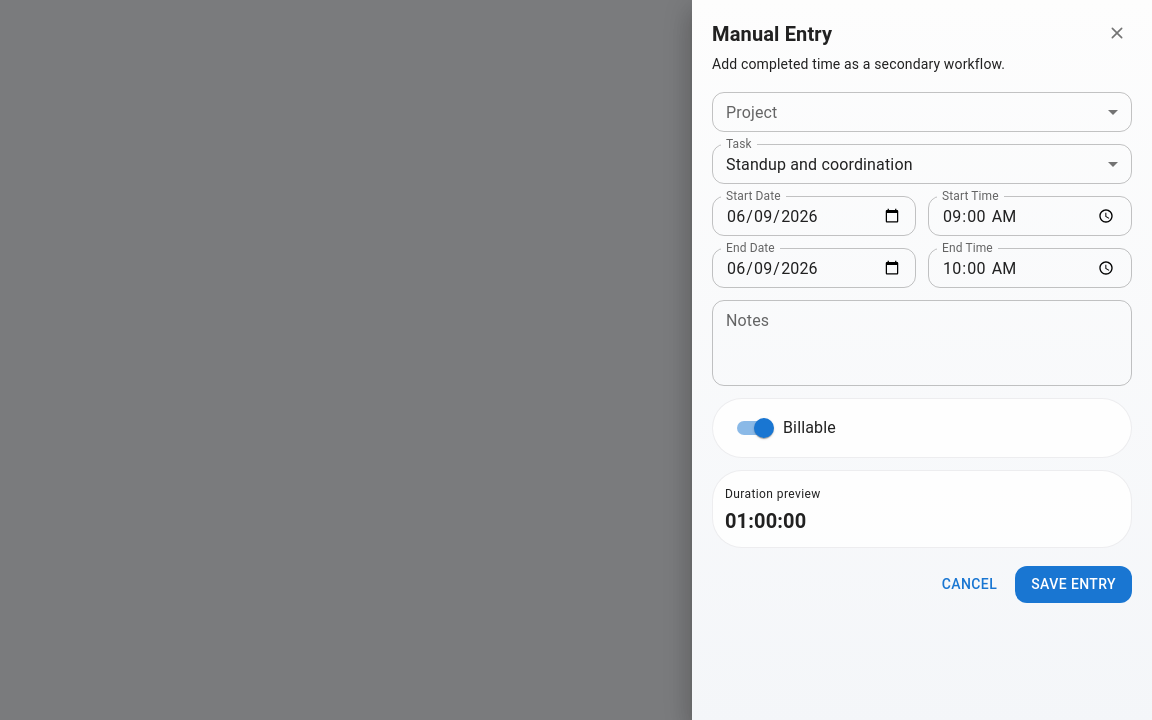
Test: TimerEntryDrawer › submit validation › blocks save and shows validation error when project is empty
What coordinates should you click on to do the following:
click the button "Save Entry"
I would click on:
 (1074, 584)
Its box is [1015,566,1132,602].
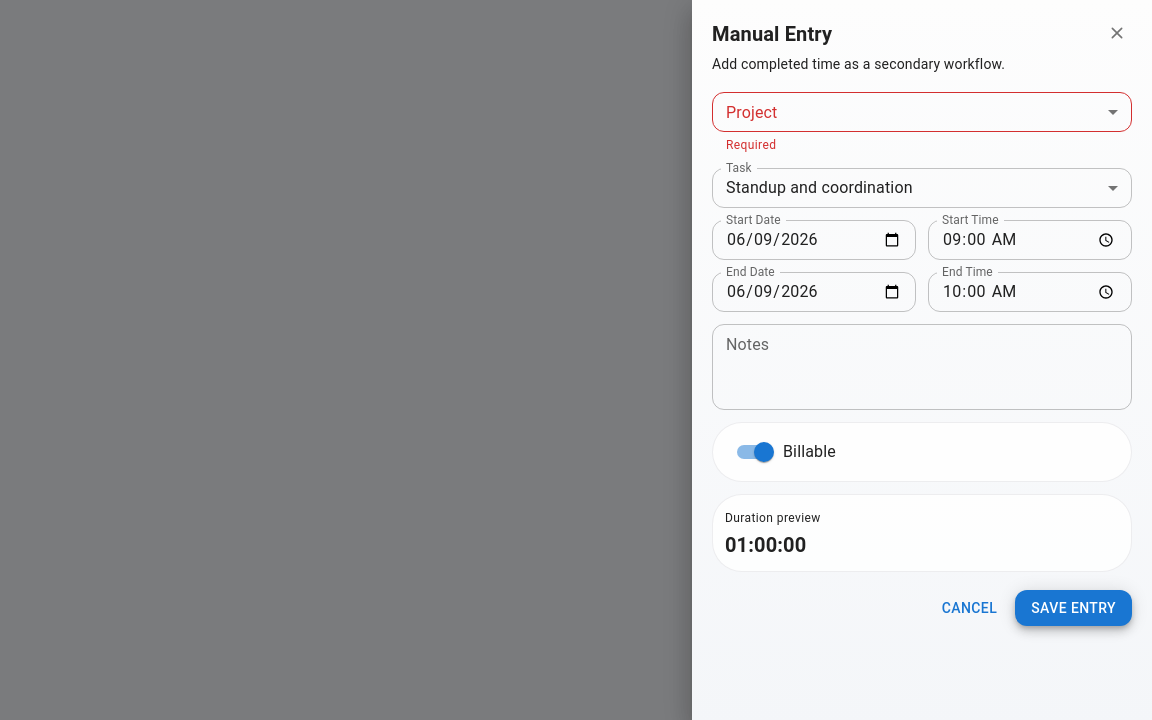
Result: the text "Required" is shown at [726,138,776,152]
